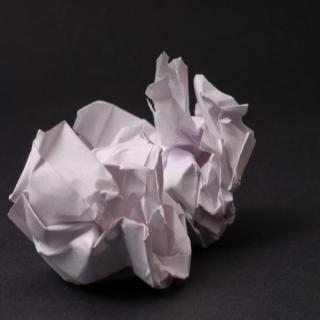Anorganik: (5, 47, 257, 297)
